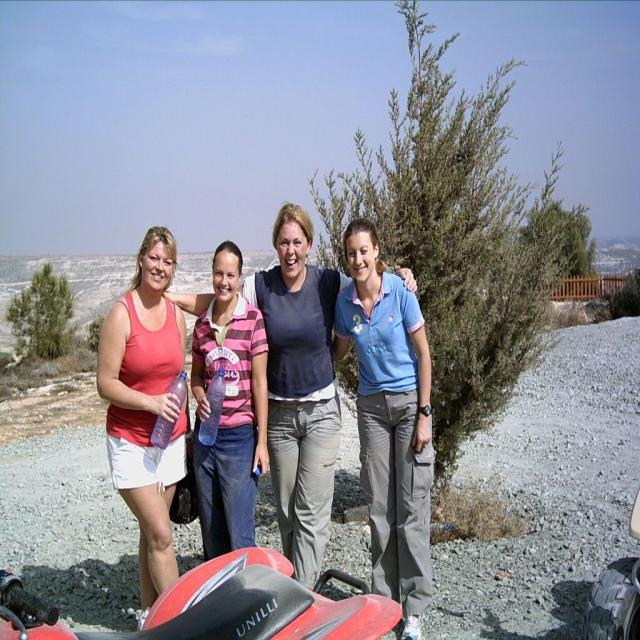body: (160, 202, 419, 594), (330, 215, 438, 640), (95, 226, 190, 633), (188, 238, 271, 564)
